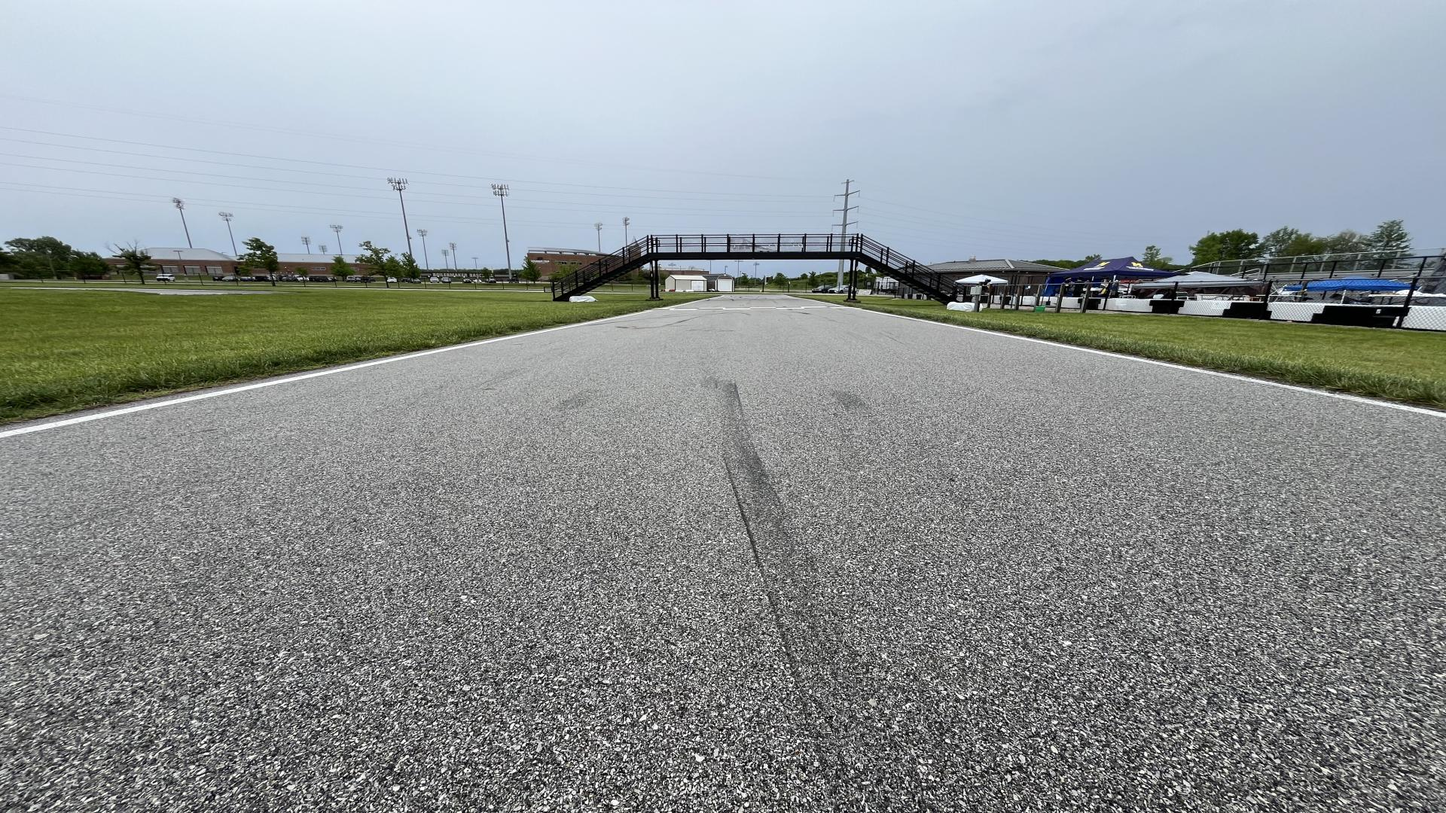white-line: (0, 312, 650, 438), (855, 309, 1445, 419), (670, 296, 724, 308), (793, 297, 844, 306)
